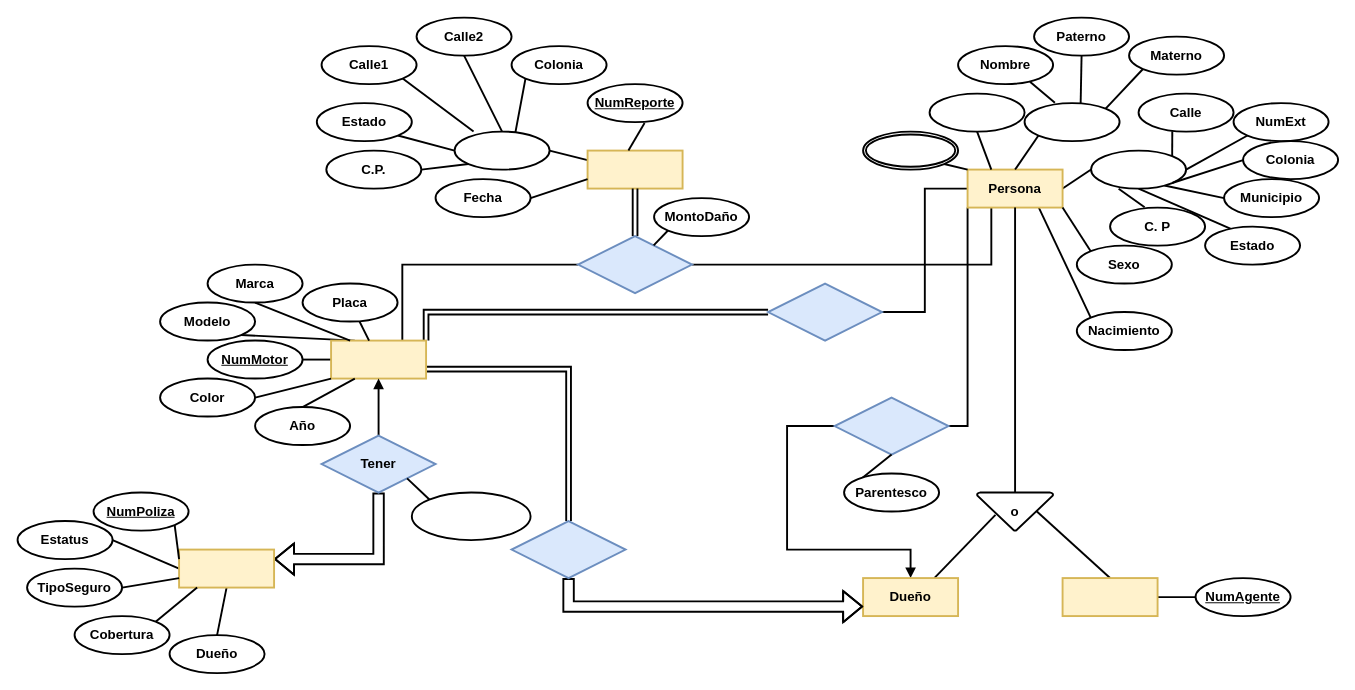
Some shapes in this 1355 by 690 pixel diagram are drawn without their labels. The shapes that lost their labels are listed below. From the top down, each one's centre as x and y in pixels, then its label:
point 976,112: Licencia
point 1071,122: NombreC
point 501,150: Ubicacion
point 634,169: Accidente
point 910,150: Teléfono
point 1138,169: Dirección
point 635,264: Participar
point 825,311: Manejar
point 378,359: Vehículo
point 891,425: Prestar
point 470,516: FechaContrato
point 226,568: Póliza
point 568,549: Poseer
point 1109,597: Agente
